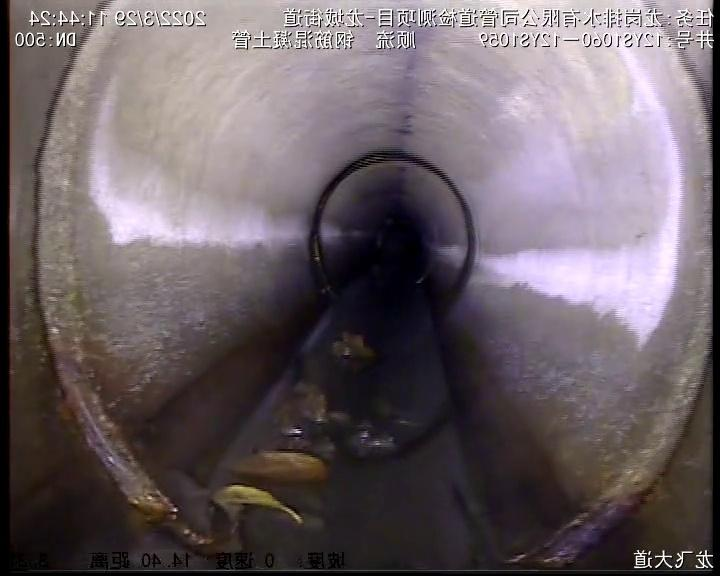CKTJ: (515, 3, 713, 561), (33, 1, 206, 536)
